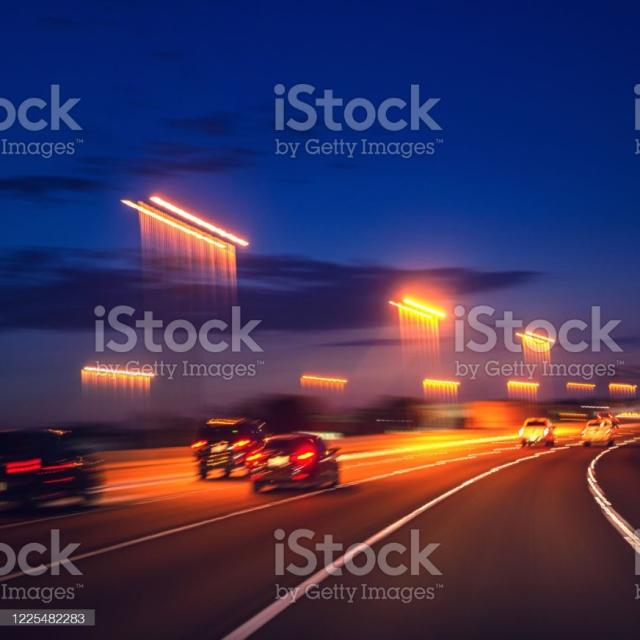car: (0, 421, 106, 511), (248, 432, 340, 494), (194, 416, 274, 479), (517, 416, 556, 451), (580, 418, 616, 449)
